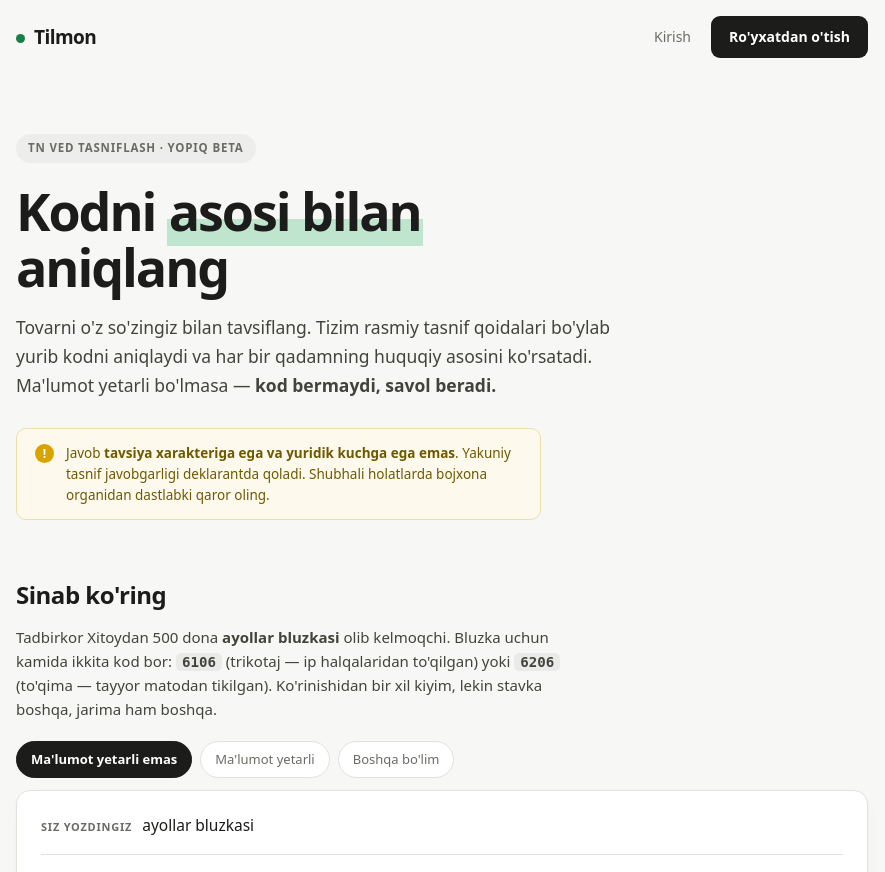
demo — boshqarish › boshqa misolga o'tish mumkin
Click the button with test id "demo-preset" showing "Ma'lumot yetarli".
click(265, 760)  # box [200,741,330,778]
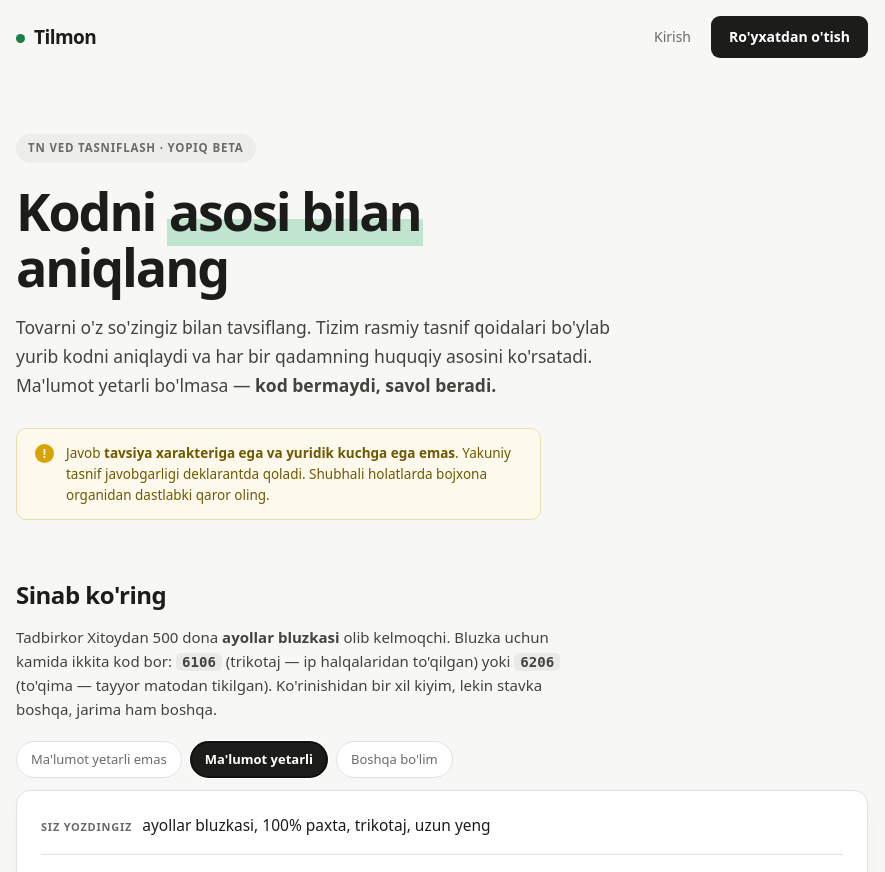
Now the element with test id "demo-input" reads "Siz yozdingiz ayollar bluzkasi, 100% paxta, trikotaj, uzun yeng", box [142,814,491,836]
